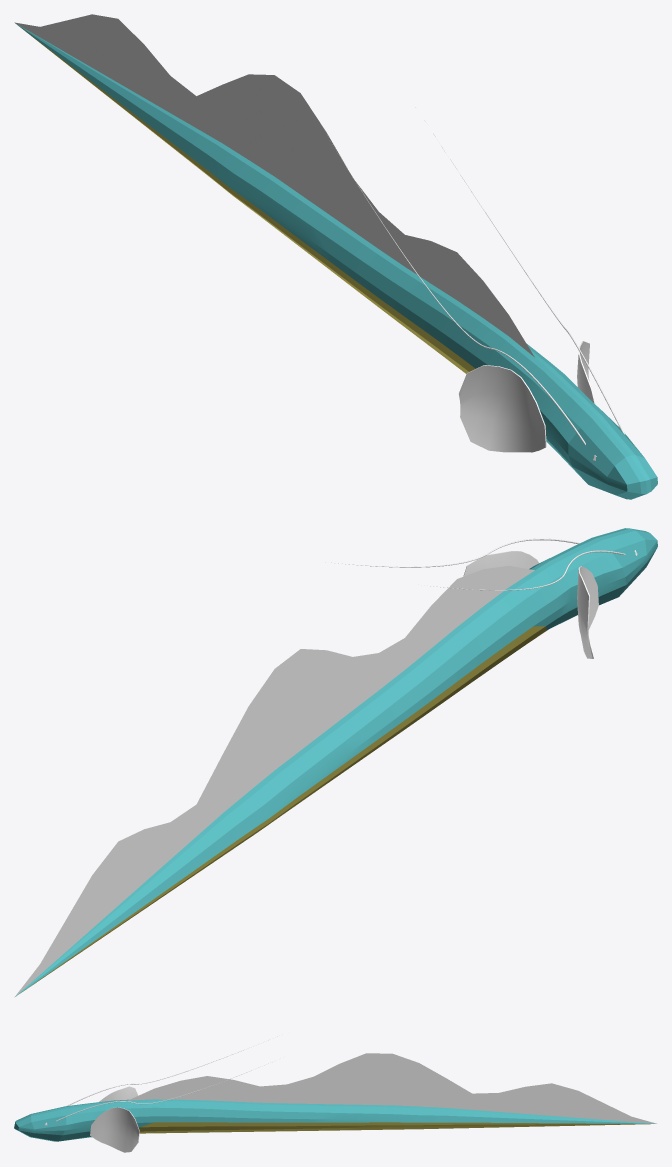
The model's file is Eel.fbx.
The picture shows the model from 3 angles, top to bottom: view 1: azimuth 30°, elevation 25°; view 2: azimuth 150°, elevation 25°; view 3: azimuth 270°, elevation 25°; orthographic projection. The views are drawn at different scales.
Parts seen in each view (by area): view 1: Body_blue, Dorsal_fin, Fin, Body_yellow, Antenna; view 2: Body_blue, Dorsal_fin, Body_yellow, Fin, Antenna; view 3: Dorsal_fin, Body_blue, Body_yellow, Fin, Antenna.
Boxes of the visible parts, box(x1,y1,x2,y2) form: Body_blue: box(15, 23, 657, 499); Dorsal_fin: box(14, 14, 534, 357); Fin: box(459, 341, 595, 452); Body_yellow: box(20, 27, 475, 373); Antenna: box(344, 133, 625, 445); Body_blue: box(14, 528, 657, 997); Dorsal_fin: box(15, 565, 534, 996); Body_yellow: box(21, 626, 546, 992); Fin: box(463, 551, 598, 658); Antenna: box(331, 538, 625, 590); Dorsal_fin: box(128, 1053, 656, 1123); Body_blue: box(14, 1099, 655, 1141); Body_yellow: box(139, 1122, 650, 1133); Fin: box(90, 1086, 139, 1152); Antenna: box(56, 1040, 268, 1121).
Bounding box in the file's own units: 127 × 190 × 1073.
